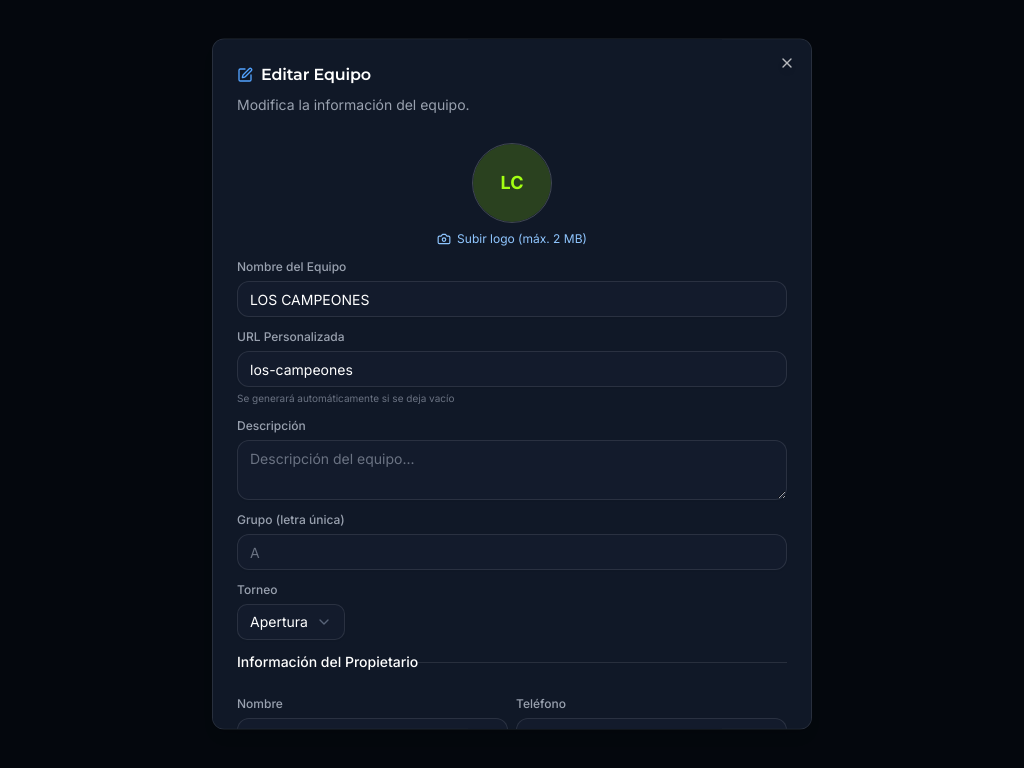
Test: edit team tournament and owner › clears the tournament with the nil UUID
The width and height of the screenshot is (1024, 768).
Click the dropdown named "Torneo".
click(291, 622)  # box [237,604,345,640]
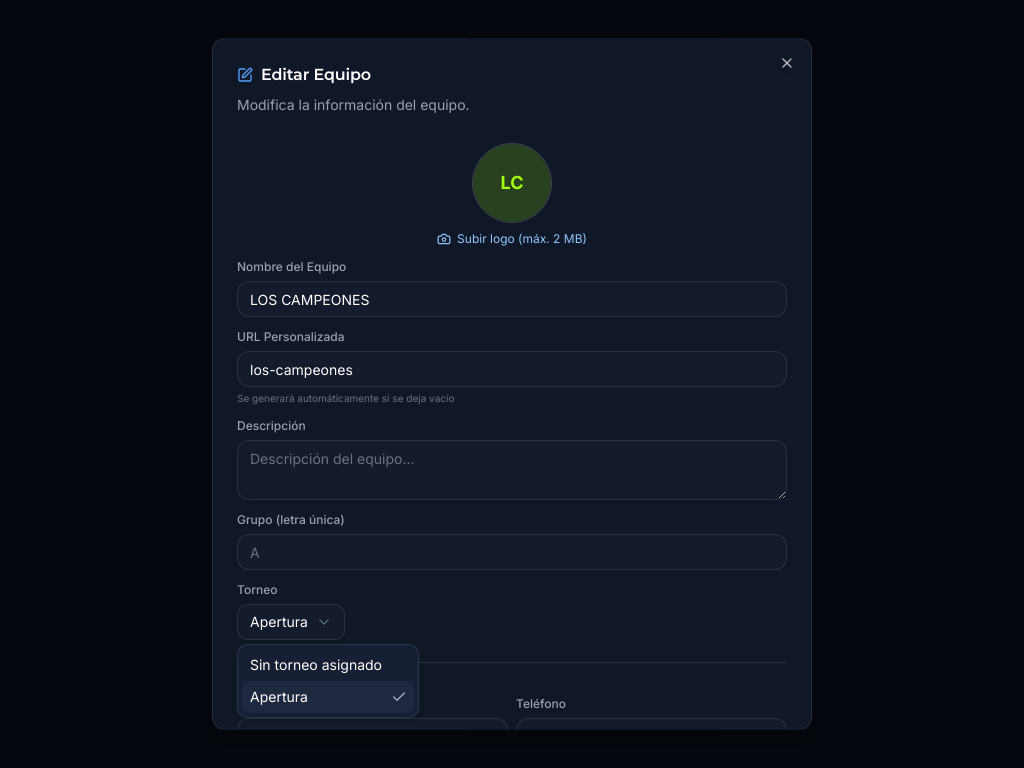
Click the option "Sin torneo asignado".
click(316, 664)  # box [250,656,382,673]
(page scrolled)
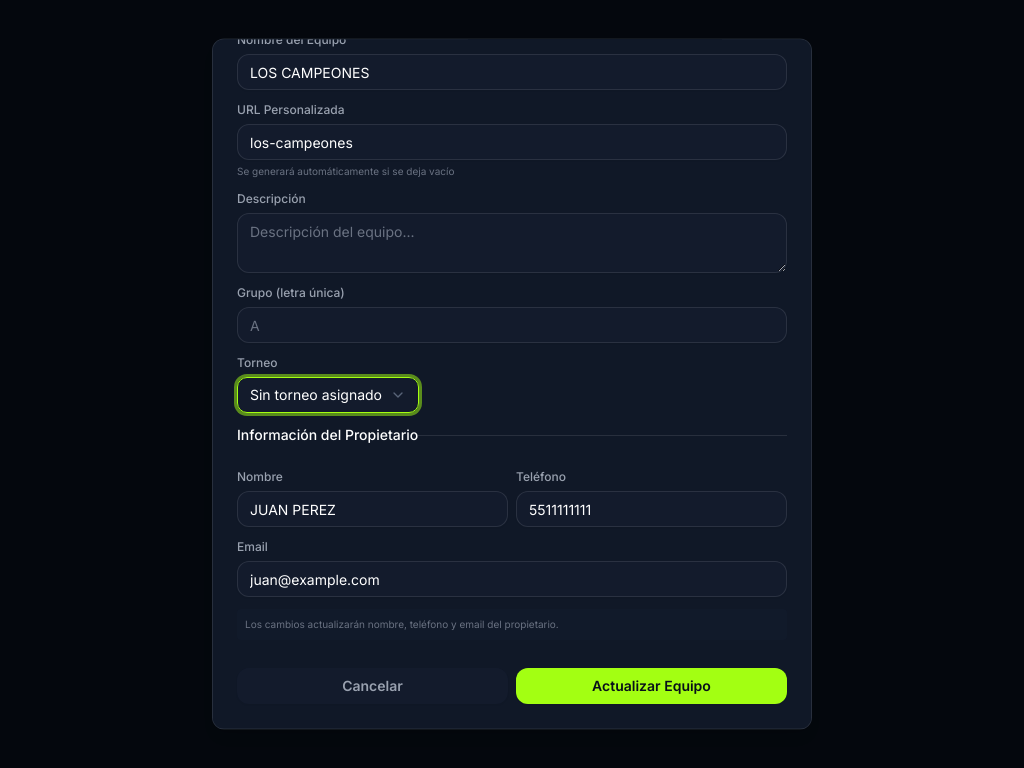
Click the button "Actualizar Equipo".
click(652, 686)  # box [516,668,787,704]
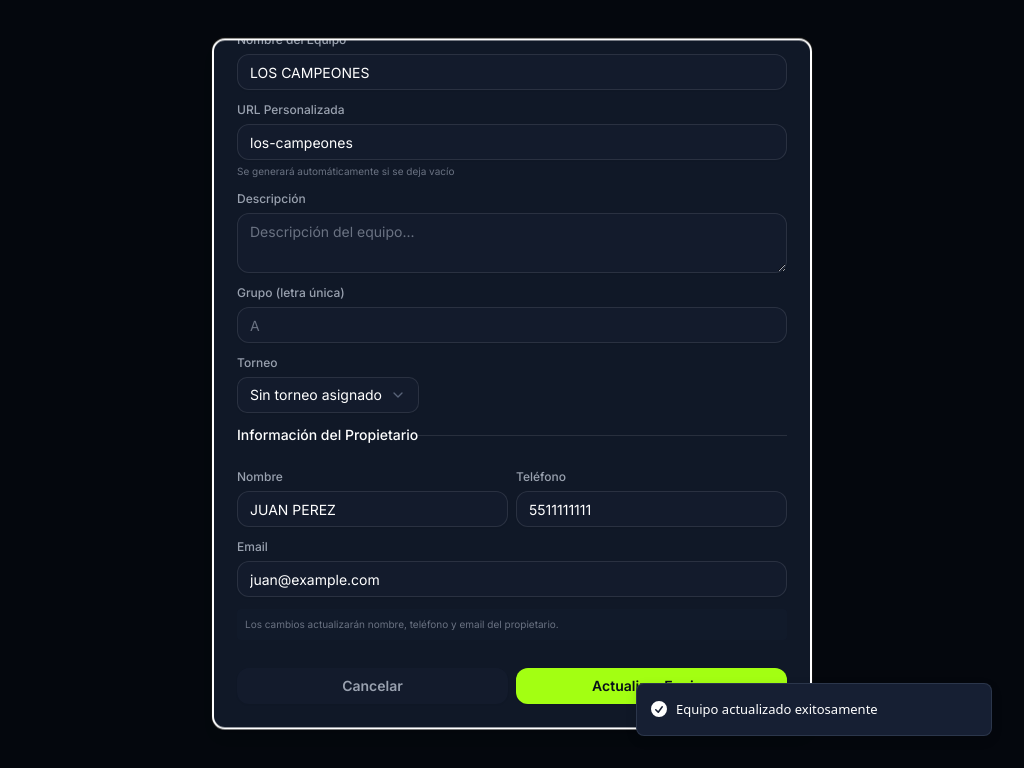
Result: the text "Equipo actualizado exitosamente" is shown at [676,700,878,719]
